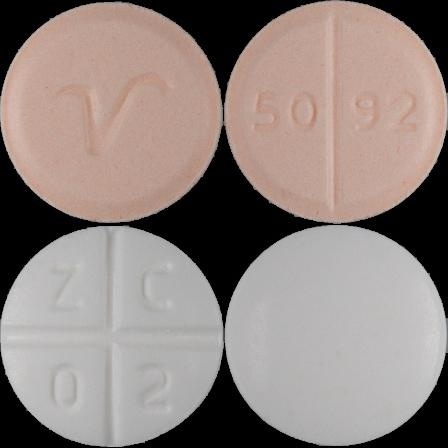53808-0543: (0, 0, 224, 224)
